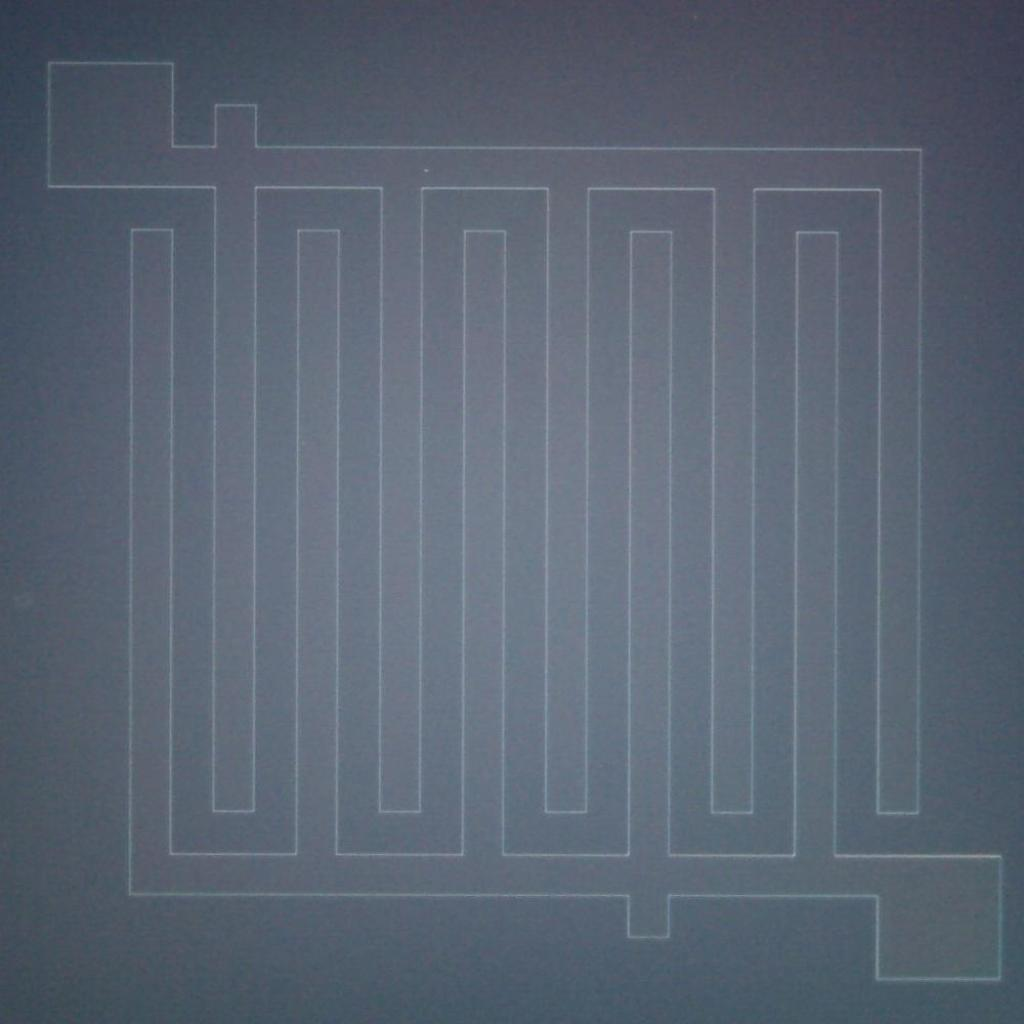dot: (424, 168, 429, 172)
